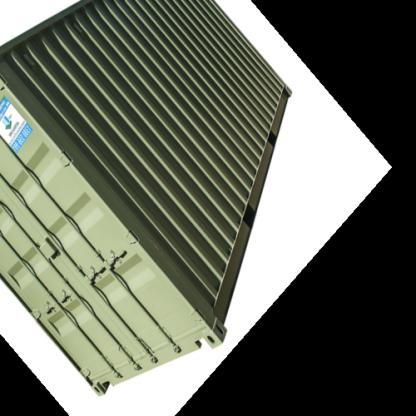Damage: (49, 20, 93, 55)
